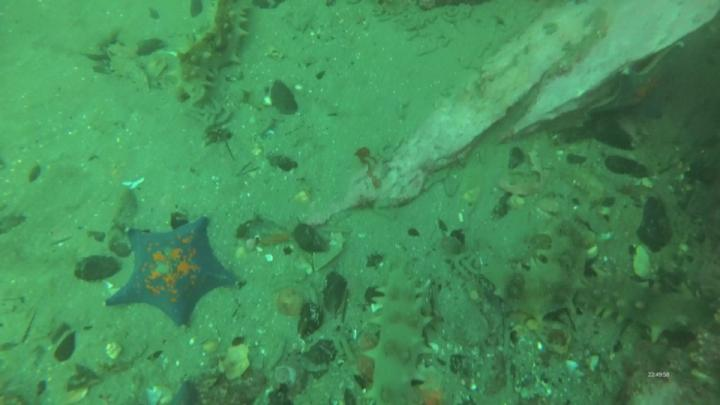holothurian: (478, 213, 596, 325), (585, 262, 713, 344), (367, 266, 436, 405), (173, 1, 250, 110)
starfish: (102, 213, 242, 331), (581, 39, 690, 120)
